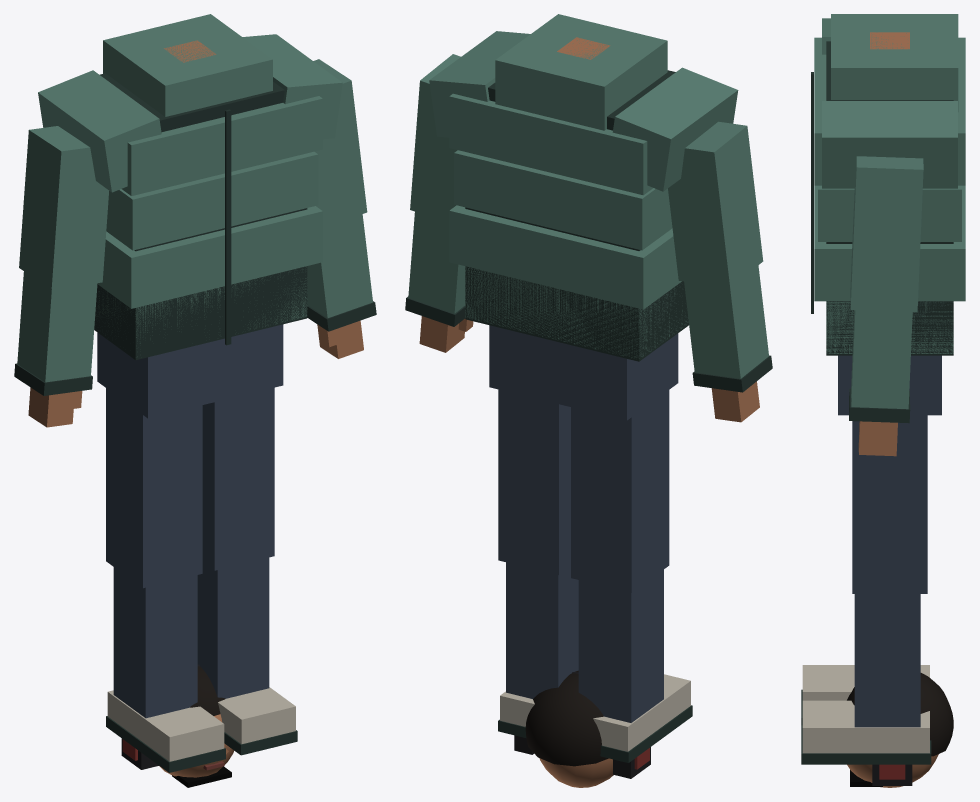
File: passenger_puffer.fbx
The picture shows the model from 3 angles, left to right: view 1: azimuth 30°, elevation 25°; view 2: azimuth 150°, elevation 25°; view 3: azimuth 270°, elevation 25°; orthographic projection. The views are drawn at different scales.
Parts seen in each view (by area): view 1: Mesh_11, Mesh_12, Mesh_10, Mesh_13, Body_Skin, Mesh_0; view 2: Mesh_11, Mesh_12, Mesh_10, Mesh_0, Mesh_13, Body_Skin, Head_Skin, Mesh_7; view 3: Mesh_11, Mesh_12, Mesh_10, Mesh_13, Body_Skin, Mesh_0, Head_Skin, Mesh_7, Mesh_8.
Part boxes in pixels (x1,y1,x2,y2): Mesh_11: (17, 14, 372, 382); Mesh_12: (97, 324, 283, 718); Mesh_10: (14, 73, 376, 772); Mesh_13: (107, 687, 295, 761); Body_Skin: (28, 40, 363, 427); Mesh_0: (190, 666, 224, 715); Mesh_11: (408, 14, 768, 378); Mesh_12: (489, 325, 678, 722); Mesh_10: (405, 70, 772, 762); Mesh_0: (525, 670, 608, 766); Mesh_13: (500, 674, 690, 751); Body_Skin: (419, 37, 759, 422); Head_Skin: (539, 758, 613, 787); Mesh_7: (514, 672, 650, 778); Mesh_11: (814, 14, 965, 409); Mesh_12: (838, 355, 941, 727); Mesh_10: (801, 41, 953, 764); Mesh_13: (802, 665, 929, 753); Body_Skin: (858, 32, 909, 456); Mesh_0: (847, 673, 953, 756); Head_Skin: (847, 754, 938, 787); Mesh_7: (872, 764, 912, 785); Mesh_8: (879, 764, 905, 779).
Size of the model in its own units: 0.8347 by 1.74 by 0.3475.
